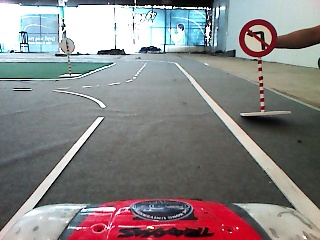ban_left: (240, 19, 276, 55)
